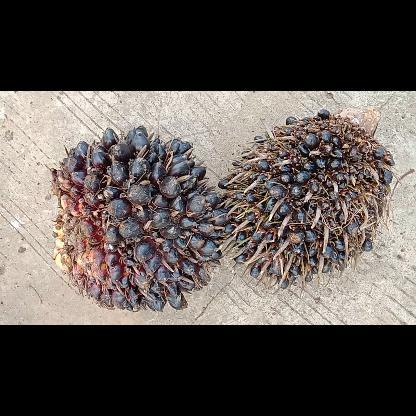TBS mentah: (46, 122, 232, 316), (216, 107, 396, 291)
